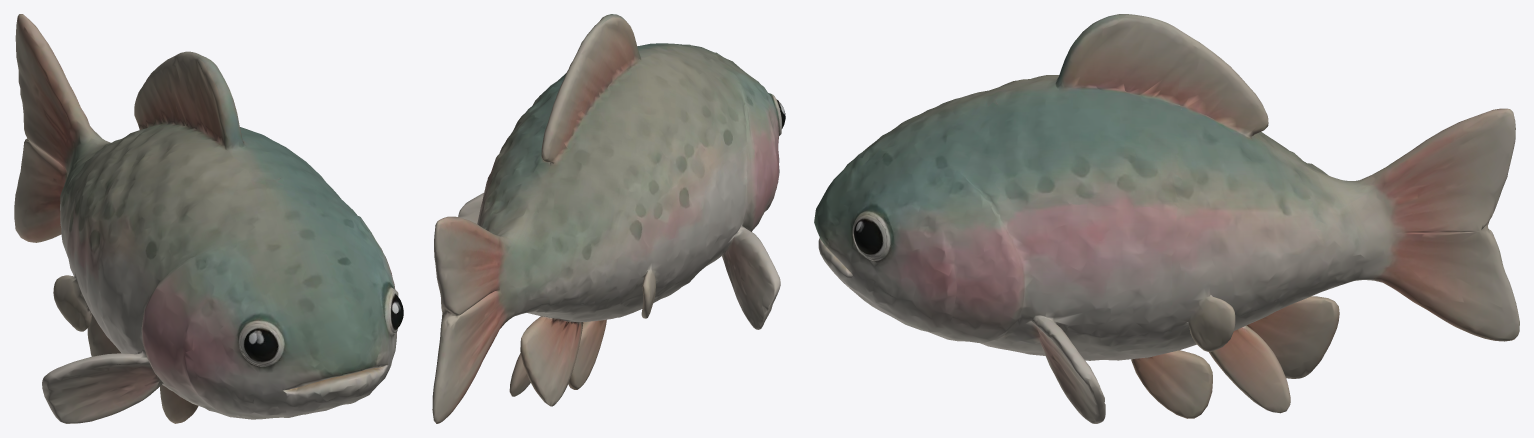
Rendered from nat_fish_catfish_v1.glb.
3 renders of one model, left to right at view 1: azimuth 30°, elevation 25°; view 2: azimuth 150°, elevation 25°; view 3: azimuth 270°, elevation 25°, orthographic. The views are drawn at different scales.
Visible parts, largest first — view 1: tripo_node_e0339edc-d259-4ab0-8c64-d731cdec599c; view 2: tripo_node_e0339edc-d259-4ab0-8c64-d731cdec599c; view 3: tripo_node_e0339edc-d259-4ab0-8c64-d731cdec599c.
Part boxes in pixels (bbox=[...]): tripo_node_e0339edc-d259-4ab0-8c64-d731cdec599c: bbox=[14, 14, 403, 423]; tripo_node_e0339edc-d259-4ab0-8c64-d731cdec599c: bbox=[432, 14, 785, 423]; tripo_node_e0339edc-d259-4ab0-8c64-d731cdec599c: bbox=[814, 14, 1519, 423].
Size of the model in its own units: 0.5871 by 0.6183 by 0.9803.
1 material, 1 textured.
